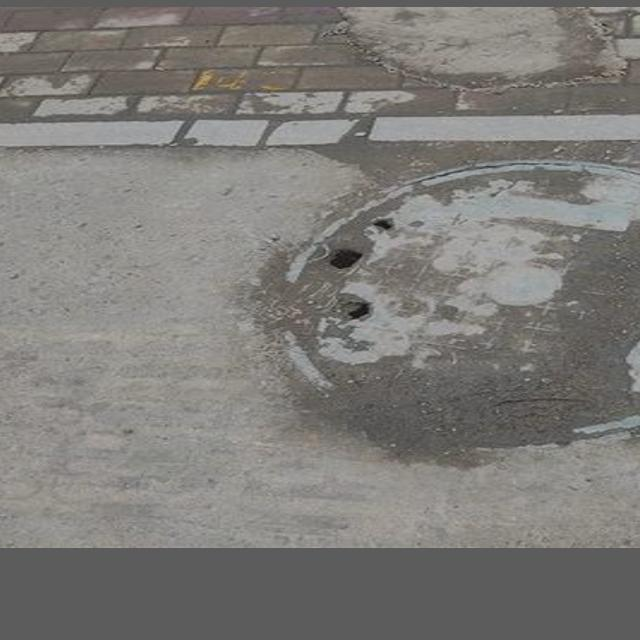broke: (234, 151, 640, 462)
